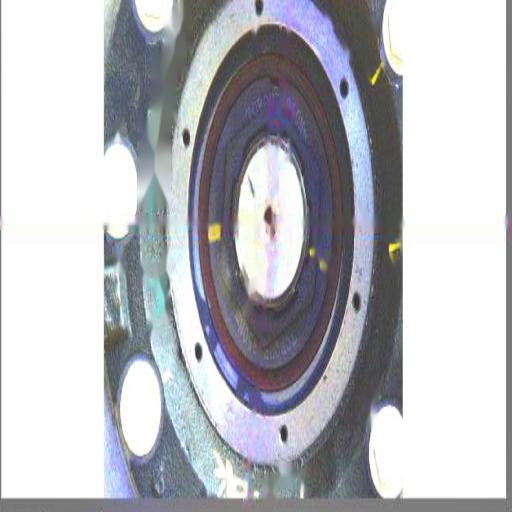center: (261, 206, 275, 232)
notch: (267, 71, 282, 97)
